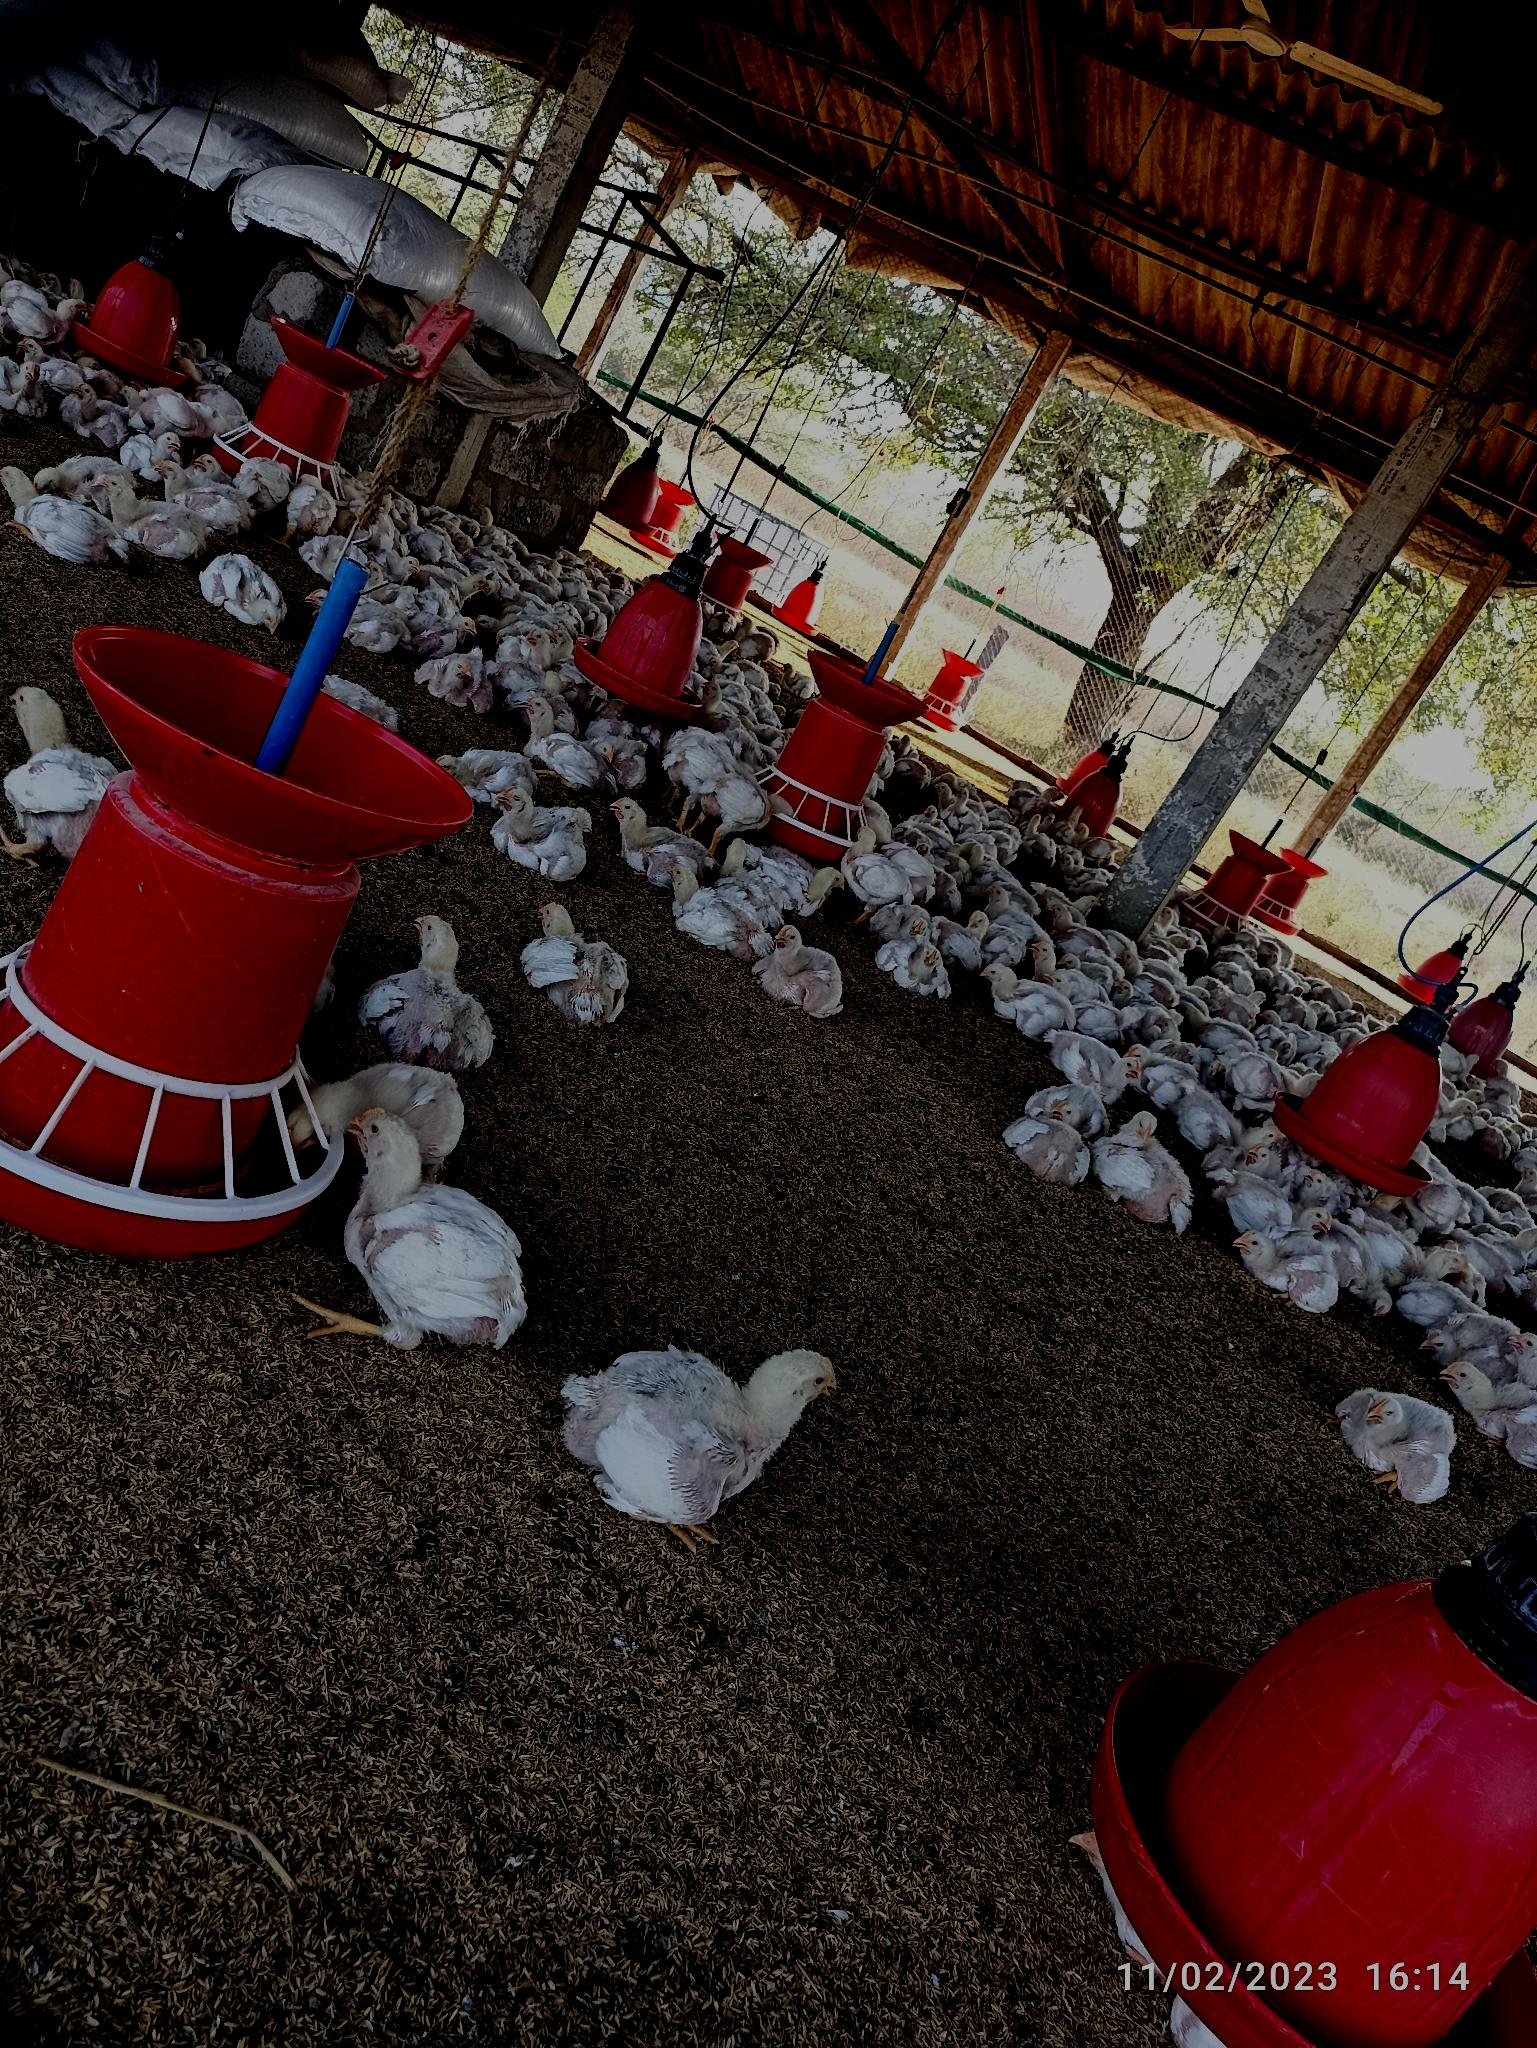Pollos: (565, 1336, 844, 1527), (337, 1117, 517, 1343), (358, 918, 504, 1072), (10, 688, 102, 847), (2, 466, 139, 570), (1337, 1383, 1456, 1499), (521, 907, 634, 1023), (1099, 1114, 1191, 1236), (492, 788, 593, 883), (1448, 1357, 1537, 1464), (667, 862, 767, 952), (1233, 1227, 1337, 1310), (513, 696, 612, 779), (764, 923, 848, 1017), (977, 959, 1078, 1034), (1049, 1033, 1154, 1099), (610, 796, 709, 865), (200, 555, 292, 629), (1009, 1097, 1090, 1181), (155, 462, 250, 531), (418, 649, 504, 720), (2, 286, 90, 345), (877, 938, 956, 1001), (668, 734, 743, 796), (770, 862, 861, 912), (400, 605, 476, 655), (66, 379, 124, 441)
